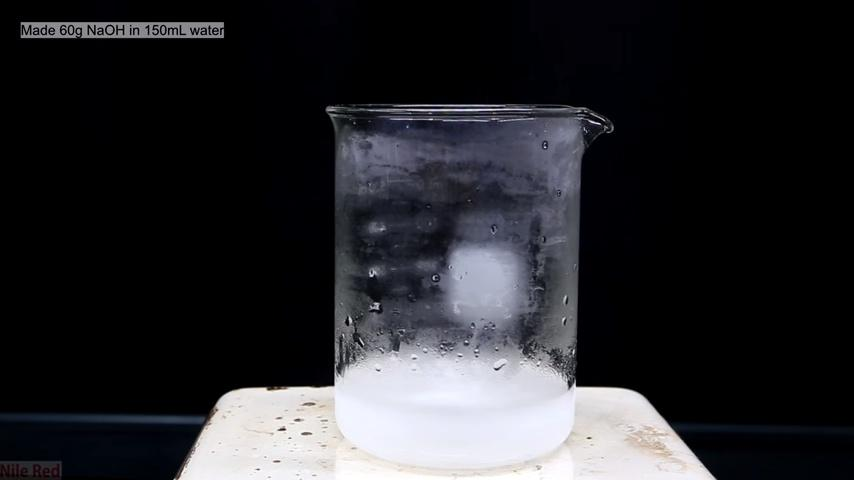Beaker: (317, 95, 616, 458)
